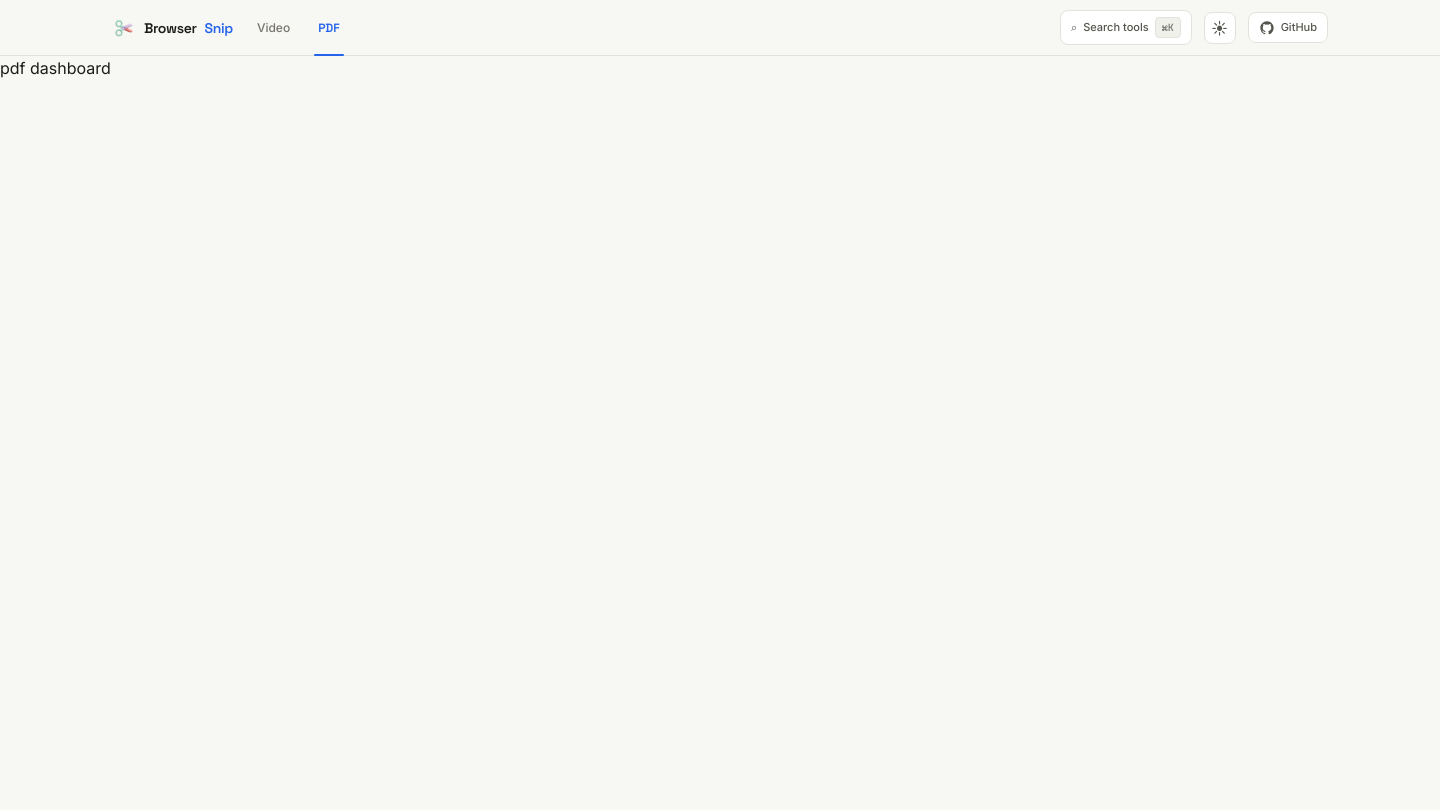
Scenario: command palette › opens on ⌘K, filters while typing and closes on Esc
Press k
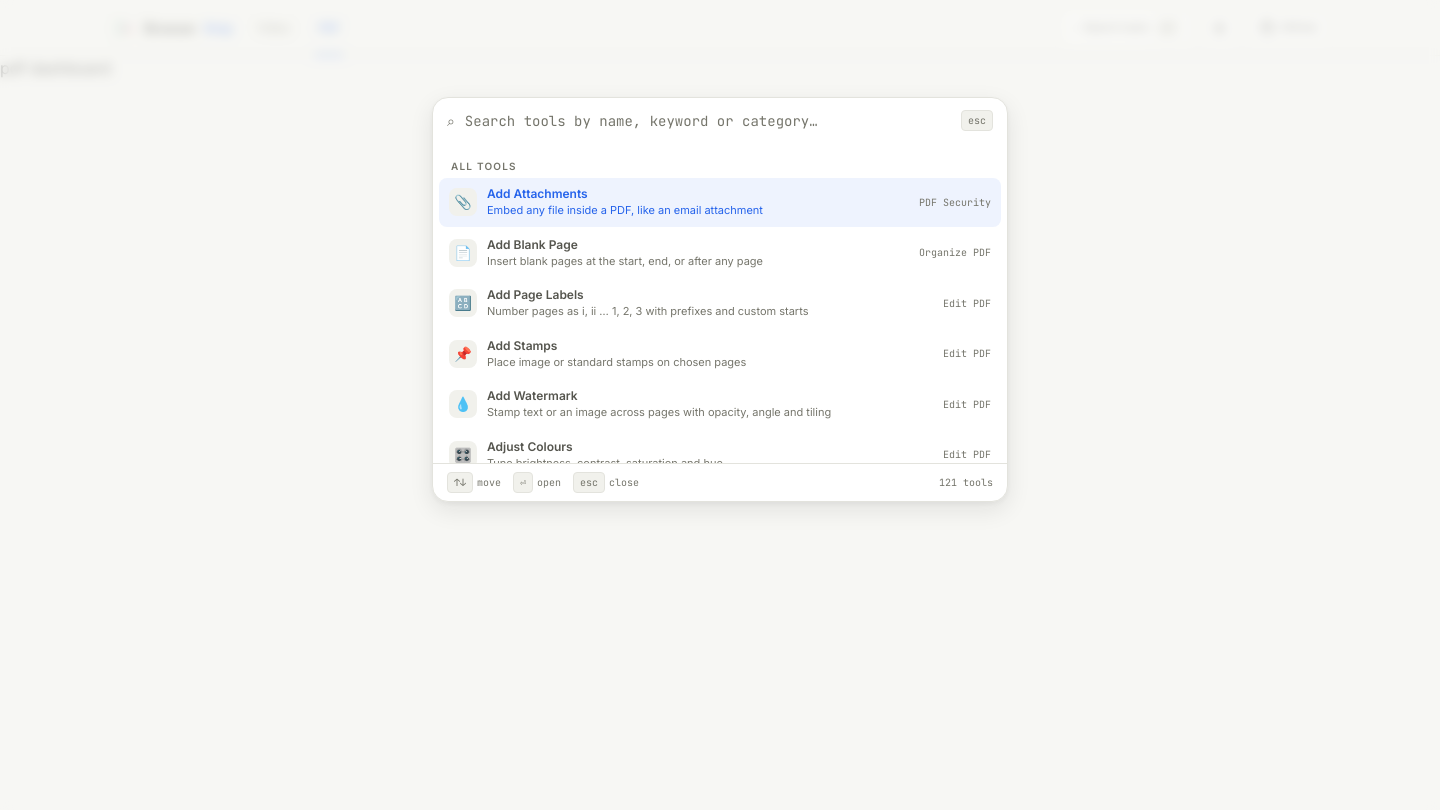
Type "merge" into the dropdown labelled "Search tools" at (708, 121), box [465,111,951,131]
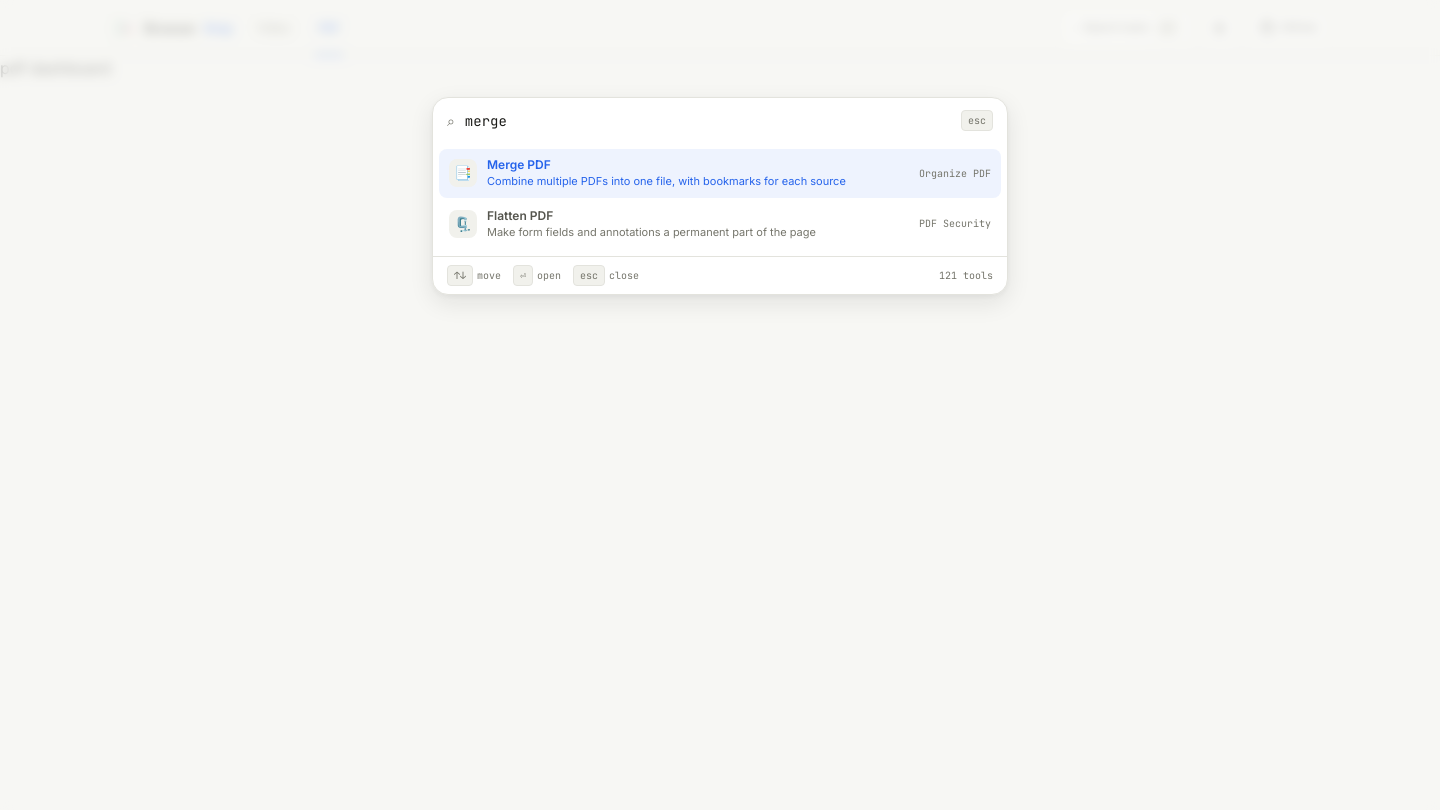
Expected: the option with aria-label "Combine multiple PDFs into one file, with bookmarks for each" is shown, [439,149,1001,198]
Press Escape in the dropdown named "Search tools", box [465,111,951,131]
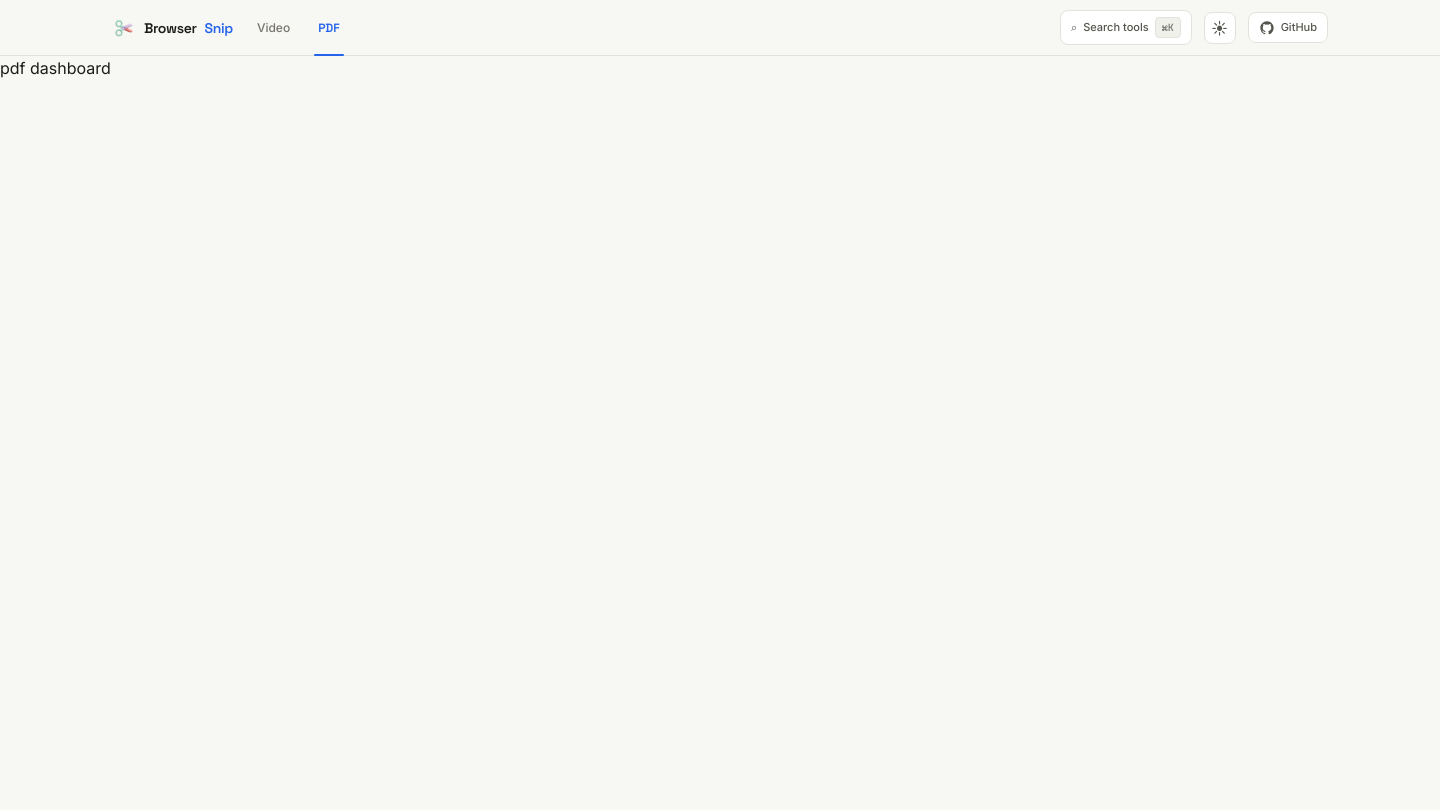
Expected: the dialog is gone
